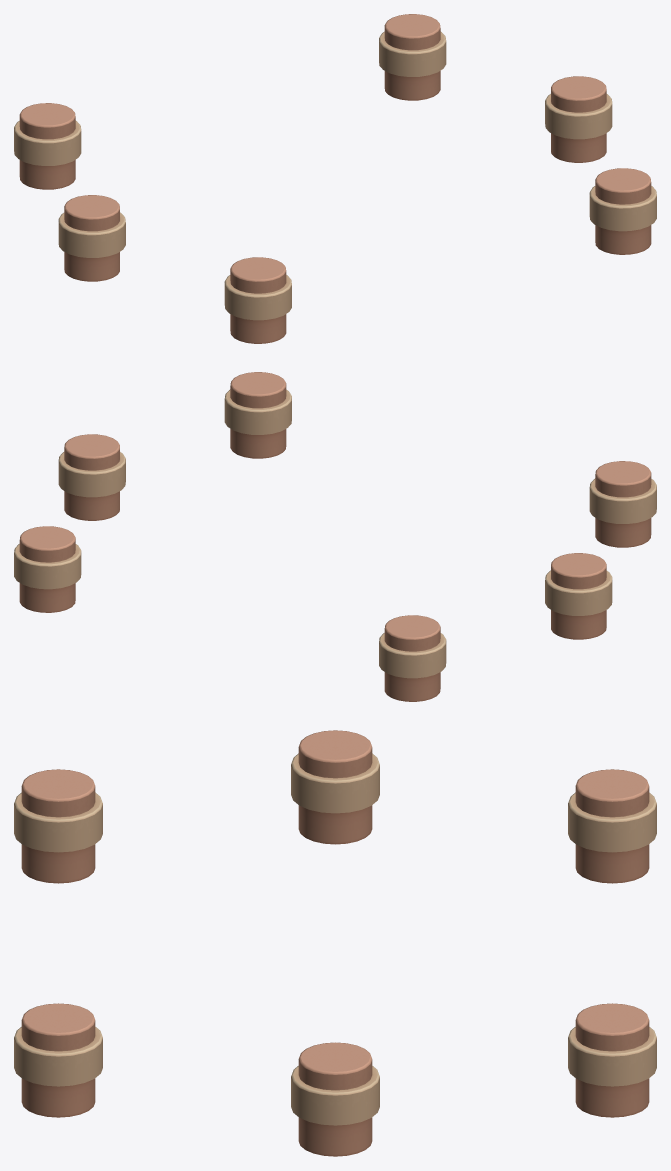
The model's file is Props.fbx.
The picture shows the model from 3 angles, top to bottom: view 1: azimuth 30°, elevation 25°; view 2: azimuth 150°, elevation 25°; view 3: azimuth 270°, elevation 25°; orthographic projection. The views are drawn at different scales.
Visible parts, largest first — view 1: Cylinder (5), Cylinder (2), Cylinder (6), Cylinder (3), Cylinder (1), Cylinder (4); view 2: Cylinder (6), Cylinder (3), Cylinder (5), Cylinder (2), Cylinder (1), Cylinder (4); view 3: Cylinder (1), Cylinder (2), Cylinder (3), Cylinder (5), Cylinder (6), Cylinder (4).
Part boxes in pixels (x1,y1,x2,y2): Cylinder (5): (589,168,656,254); Cylinder (2): (224,257,291,343); Cylinder (6): (379,14,446,100); Cylinder (3): (14,103,81,189); Cylinder (1): (58,195,125,281); Cylinder (4): (545,76,612,162); Cylinder (6): (14,526,81,612); Cylinder (3): (379,615,446,701); Cylinder (5): (224,372,291,458); Cylinder (2): (589,461,656,547); Cylinder (1): (545,553,612,639); Cylinder (4): (58,434,125,520); Cylinder (1): (291,730,379,844); Cylinder (2): (14,769,102,883); Cylinder (3): (568,769,656,883); Cylinder (5): (14,1003,102,1117); Cylinder (6): (568,1003,656,1117); Cylinder (4): (291,1042,379,1156).
Size of the model in its own units: 44.82 by 5 by 34.82.
Materials: 1 (1 with a texture image).
